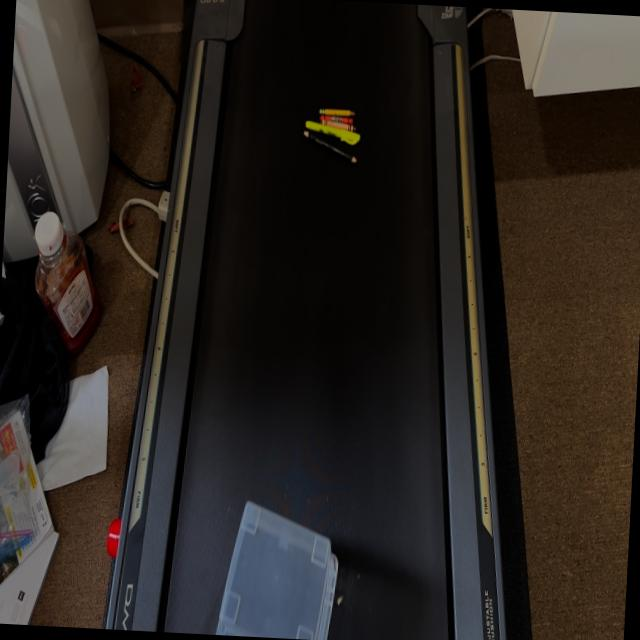Recycle: (218, 494, 345, 640)
Trash: (299, 97, 366, 174)
